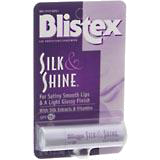grozi_62: (32, 0, 126, 158)
